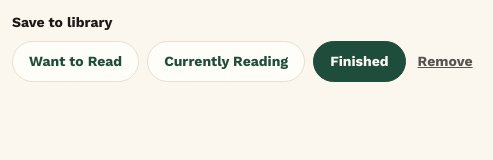
Test: ShelfSelector — signed in, book already on a shelf › removes the book from the library on Remove
This screenshot has width=493, height=160.
Click the button "Remove": [445, 62] box [414,42,476,81]
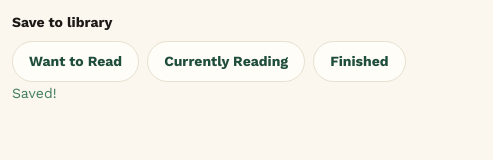
Result: the button "Remove" is gone
